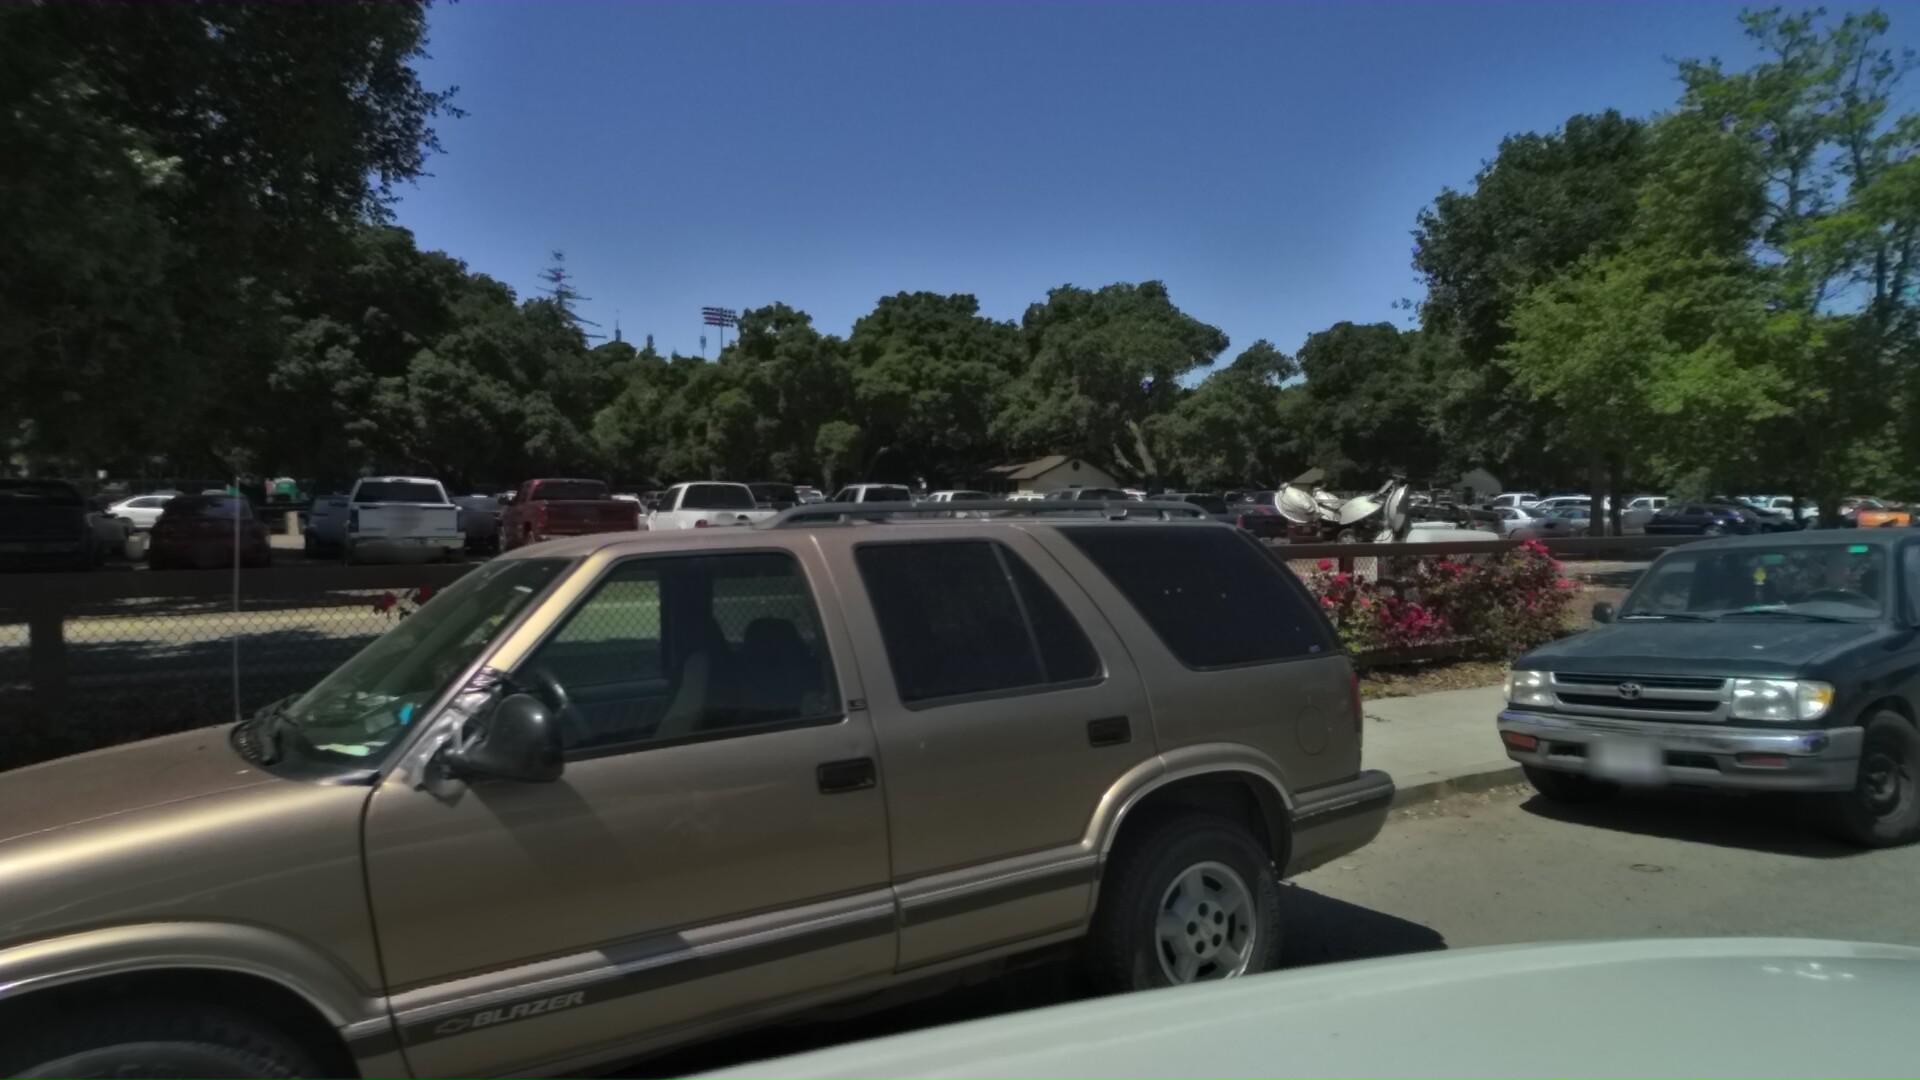car: (0, 455, 1549, 1080), (1531, 506, 1920, 866)
